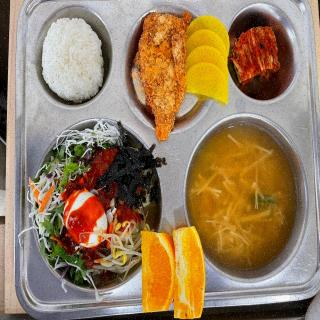Nasi: (38, 15, 112, 109)
